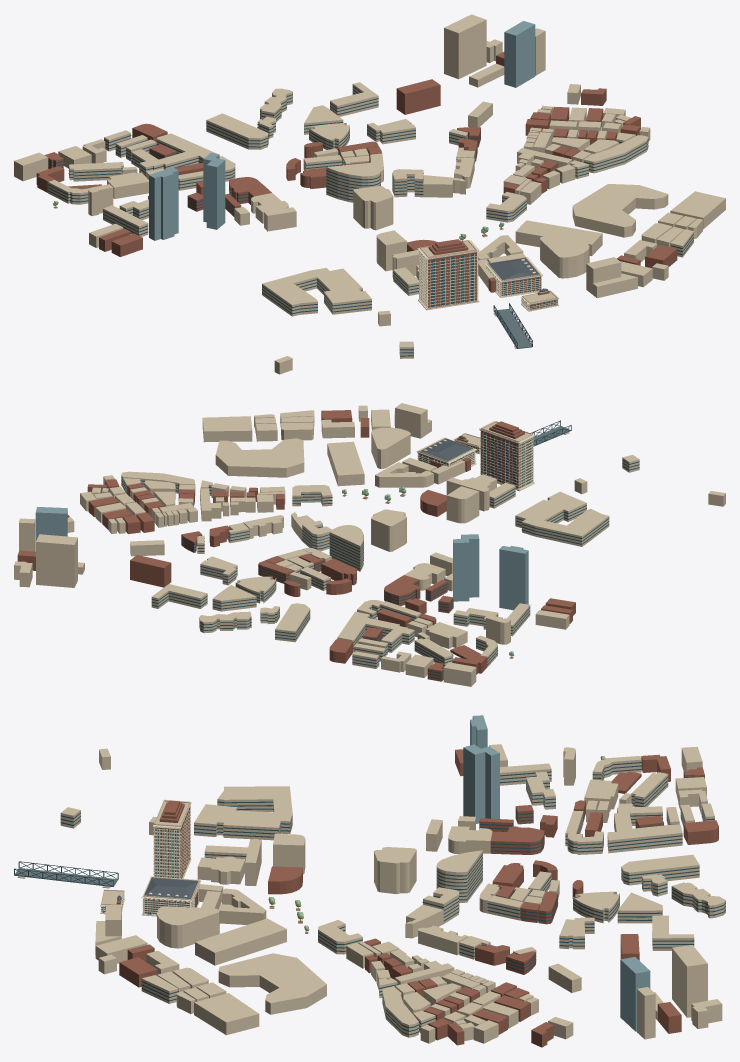
The picture shows the model from 3 angles, top to bottom: view 1: azimuth 30°, elevation 25°; view 2: azimuth 150°, elevation 25°; view 3: azimuth 270°, elevation 25°; orthographic projection. The views are drawn at different scales.
Parts seen in each view (by area): view 1: broadway-mansions.001, osm-way-189037696, osm-way-744275999, osm-way-446937830, osm-way-446937841, osm-way-446937828, astor-house.001, osm-way-293504473, osm-way-744529810, osm-way-446937840, osm-way-744276002, osm-way-744276001 (+30 smaller); view 2: broadway-mansions.001, osm-way-189037696, osm-way-744275999, osm-way-446937830, osm-way-446937841, osm-way-446937840, osm-way-744529810, osm-way-293504473, osm-way-744276001, osm-way-446933531, osm-way-744276002, osm-way-446933519 (+40 smaller); view 3: osm-way-189037696, osm-way-744275999, broadway-mansions.001, osm-way-446937840, osm-way-744529810, osm-way-446933531, osm-way-293504473, osm-way-446937830, osm-way-744276001, osm-way-446933519, osm-way-744276002, astor-house.001 (+41 smaller).
Part boxes in pixels (left/top/right/bottom): broadway-mansions.001: left=417, top=239, right=479, bottom=310; osm-way-189037696: left=572, top=184, right=668, bottom=237; osm-way-744275999: left=262, top=268, right=371, bottom=314; osm-way-446937830: left=444, top=14, right=486, bottom=79; osm-way-446937841: left=149, top=167, right=178, bottom=240; osm-way-446937828: left=504, top=21, right=535, bottom=87; astor-house.001: left=484, top=257, right=543, bottom=297; osm-way-293504473: left=540, top=236, right=589, bottom=278; osm-way-744529810: left=131, top=133, right=217, bottom=176; osm-way-446937840: left=203, top=152, right=225, bottom=229; osm-way-744276002: left=326, top=162, right=380, bottom=202; osm-way-744276001: left=353, top=186, right=393, bottom=230; broadway-mansions.001: left=479, top=421, right=534, bottom=491; osm-way-189037696: left=215, top=438, right=304, bottom=477; osm-way-744275999: left=515, top=491, right=589, bottom=546; osm-way-446937830: left=36, top=534, right=77, bottom=587; osm-way-446937841: left=499, top=546, right=528, bottom=610; osm-way-446937840: left=453, top=534, right=479, bottom=601; osm-way-744529810: left=337, top=611, right=414, bottom=652; osm-way-293504473: left=371, top=427, right=410, bottom=469; osm-way-744276001: left=371, top=509, right=406, bottom=551; osm-way-446933531: left=327, top=441, right=364, bottom=486; osm-way-744276002: left=329, top=525, right=363, bottom=571; osm-way-446933519: left=202, top=416, right=252, bottom=442; osm-way-189037696: left=218, top=953, right=326, bottom=1014; osm-way-744275999: left=194, top=786, right=292, bottom=840; broadway-mansions.001: left=153, top=799, right=191, bottom=878; osm-way-446937840: left=463, top=744, right=499, bottom=823; osm-way-744529810: left=607, top=803, right=682, bottom=853; osm-way-446933531: left=195, top=918, right=286, bottom=965; osm-way-293504473: left=157, top=906, right=219, bottom=948; osm-way-446937830: left=672, top=945, right=707, bottom=1017; osm-way-744276001: left=374, top=847, right=416, bottom=894; osm-way-446933519: left=194, top=993, right=259, bottom=1035; osm-way-744276002: left=436, top=850, right=482, bottom=902; astor-house.001: left=141, top=876, right=200, bottom=916.
Bounding box in the file's own units: 730 × 81.6 × 755.
